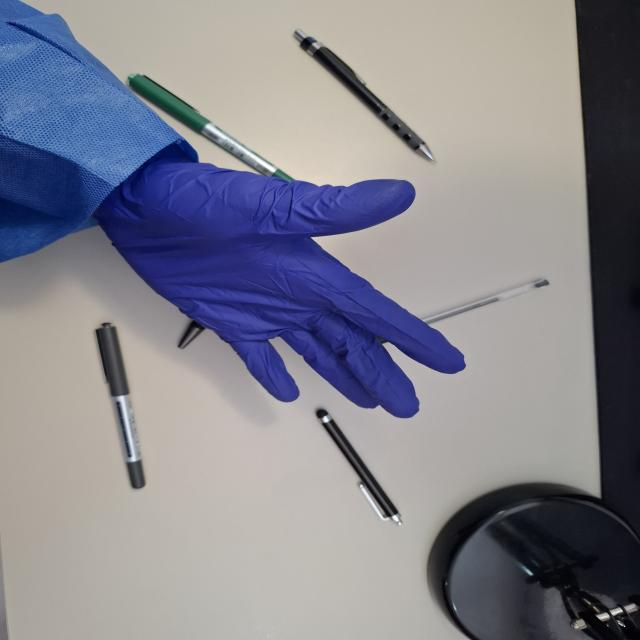glove_on: (87, 132, 471, 419)
